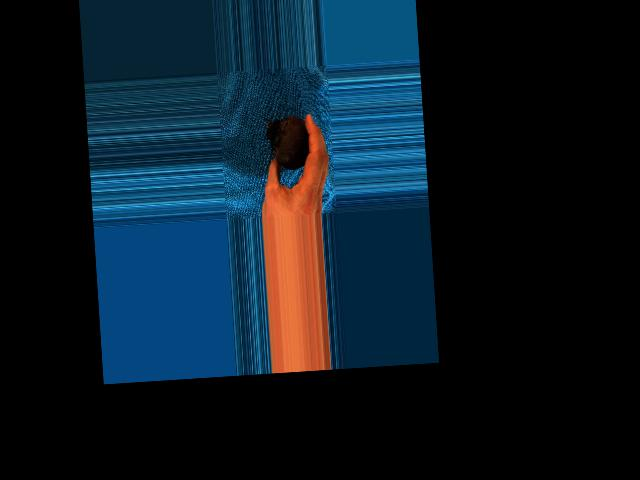beet: (264, 115, 309, 170)
